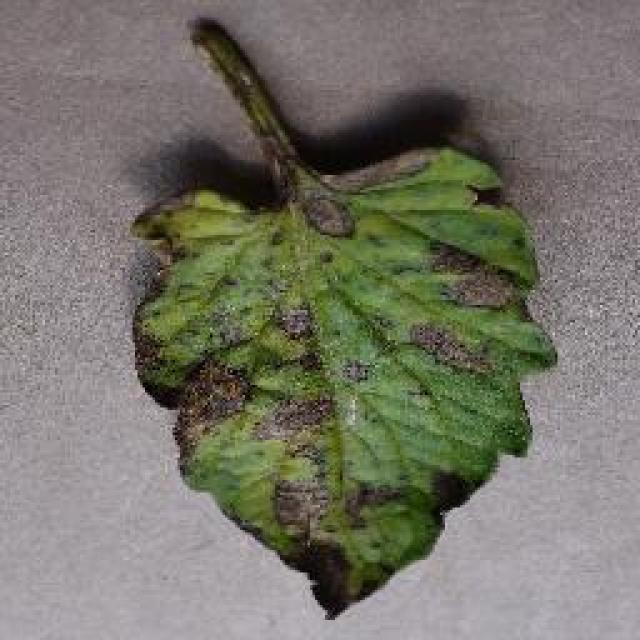Tomato___Early_blight: (124, 21, 560, 621)
